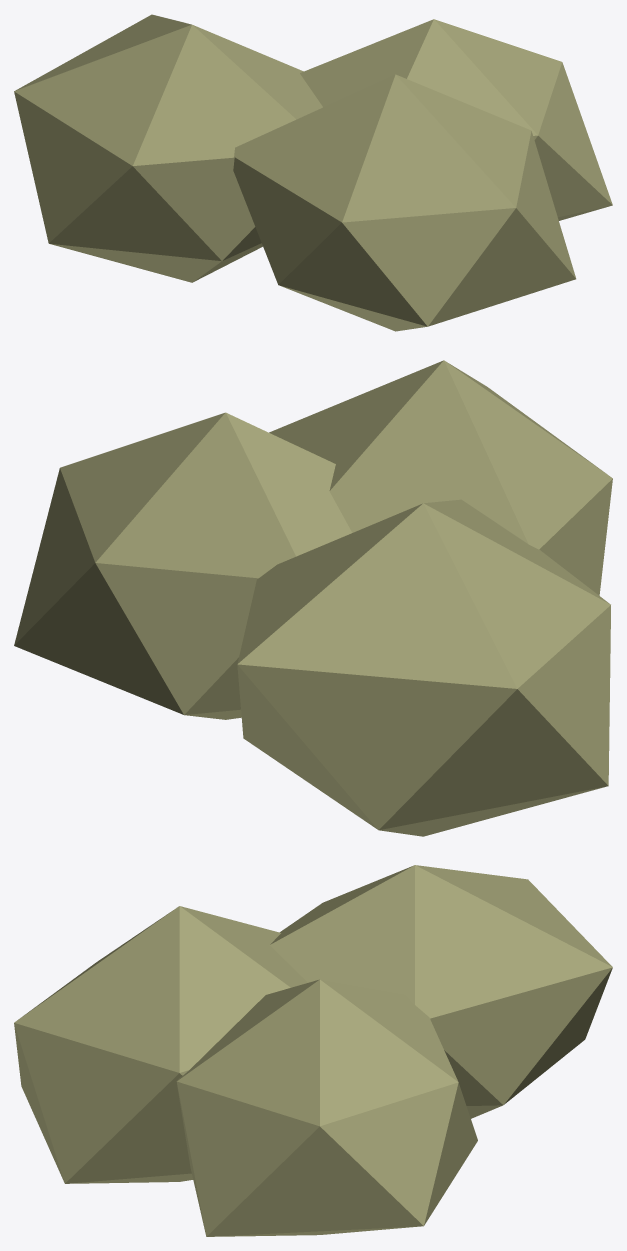
File: shrub.glb
3 views of the same model, one above another, from view 1: azimuth 30°, elevation 25°; view 2: azimuth 150°, elevation 25°; view 3: azimuth 270°, elevation 25° (orthographic). The views are drawn at different scales.
Visible parts, largest first — view 1: Shrub; view 2: Shrub; view 3: Shrub.
Boxes of the visible parts, box(x1,y1,x2,y2) form: Shrub: box(14, 14, 612, 331); Shrub: box(14, 360, 612, 836); Shrub: box(14, 865, 612, 1236).
Bounding box in the file's own units: 1.65 × 0.8943 × 1.7.
